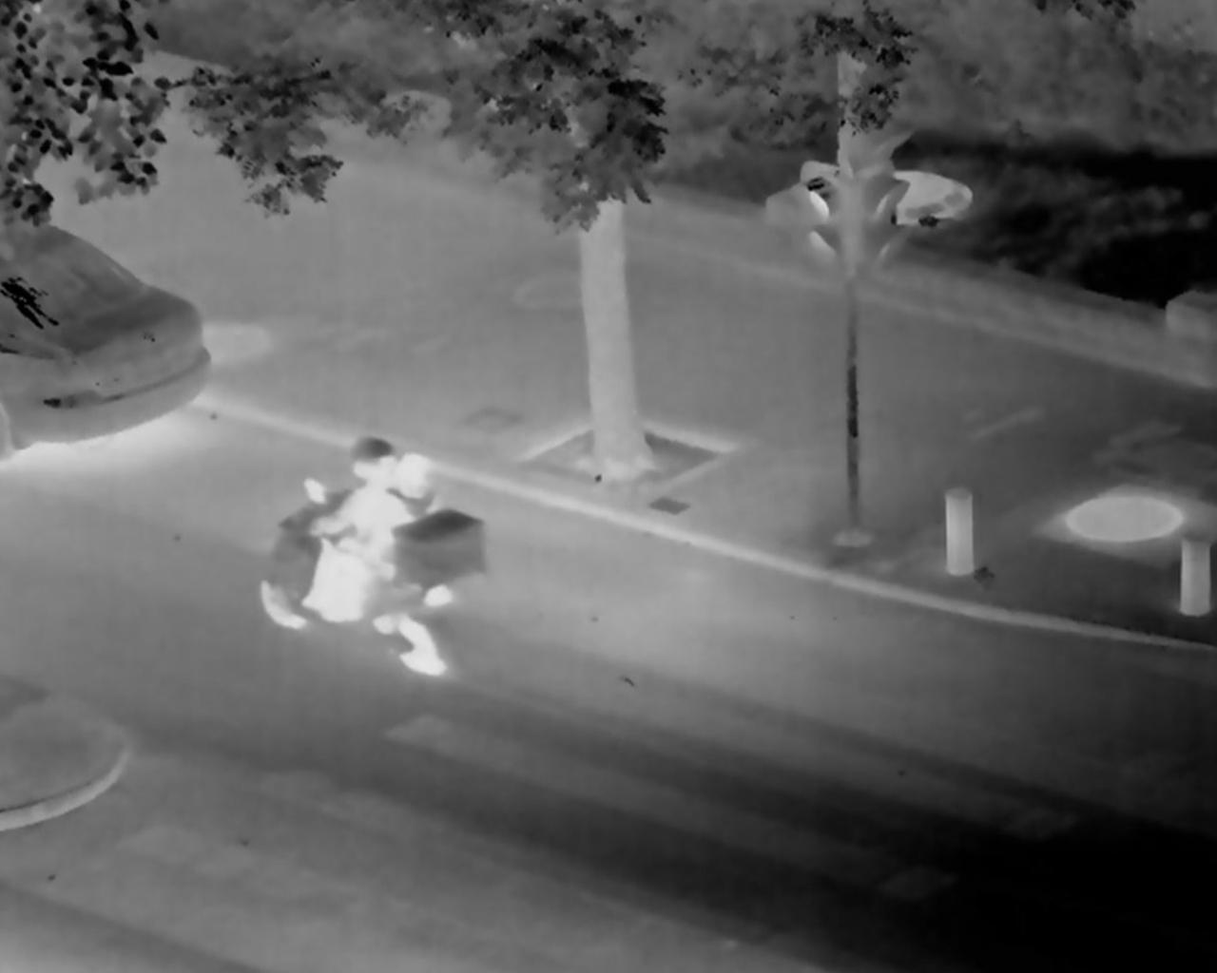person: (301, 422, 447, 638)
